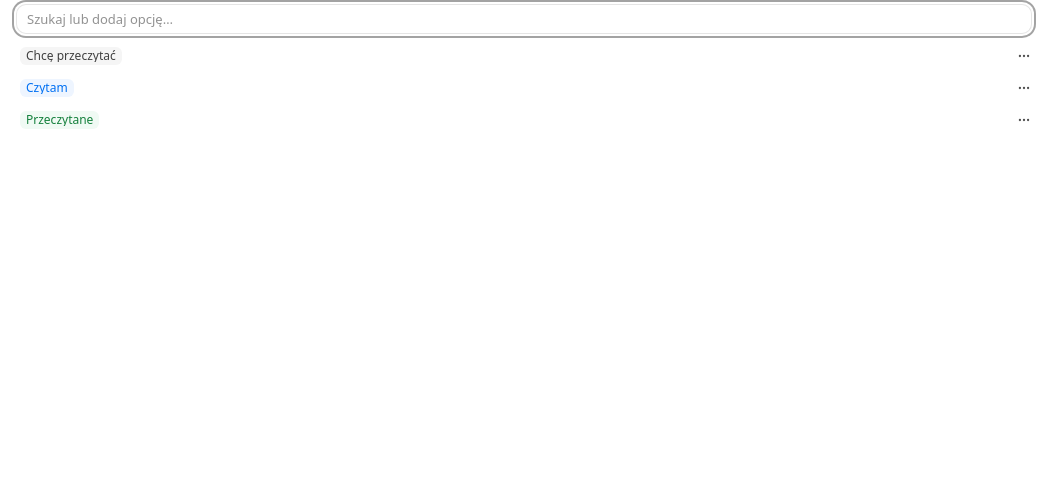
Scenario: OptionPicker › panel „Edycja opcji” › „Gotowe” zapisuje nazwę i wraca do listy
Step 1. Click the button named "Edytuj opcję „Czytam”" → x=1024, y=88, box left=1012, top=76, right=1036, bottom=100
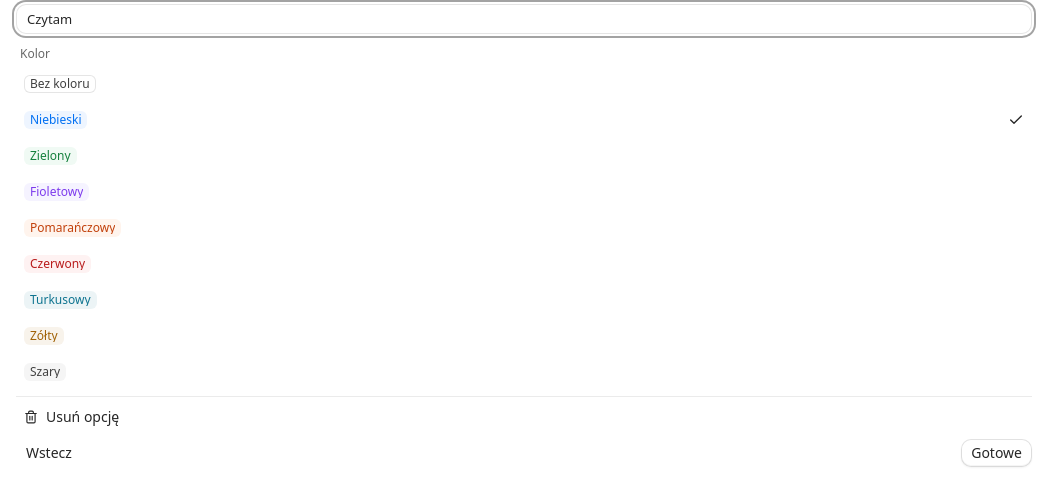
Step 2. Type "!" into the field named "Nazwa opcji" → x=524, y=19, box left=16, top=4, right=1032, bottom=34
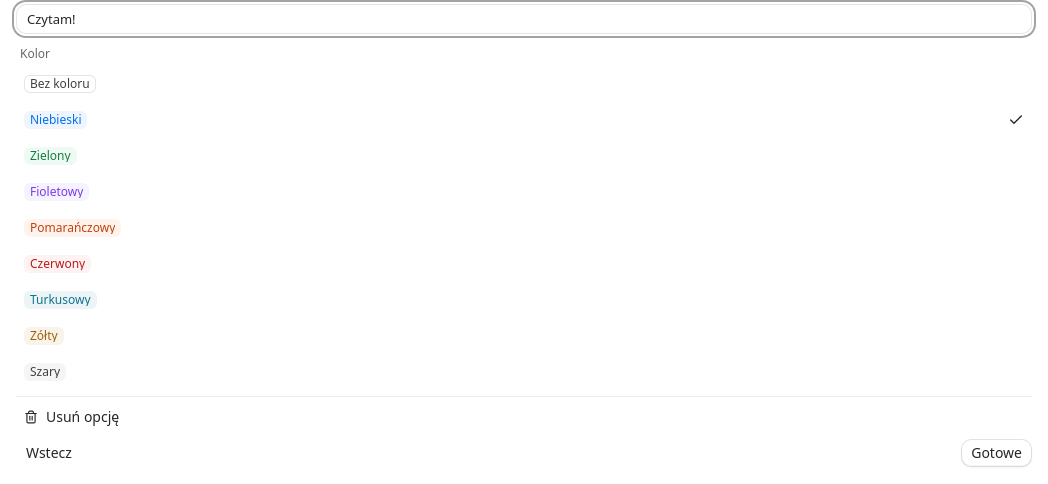
Step 3. Click the button "Gotowe" → x=997, y=453, box left=961, top=439, right=1032, bottom=467
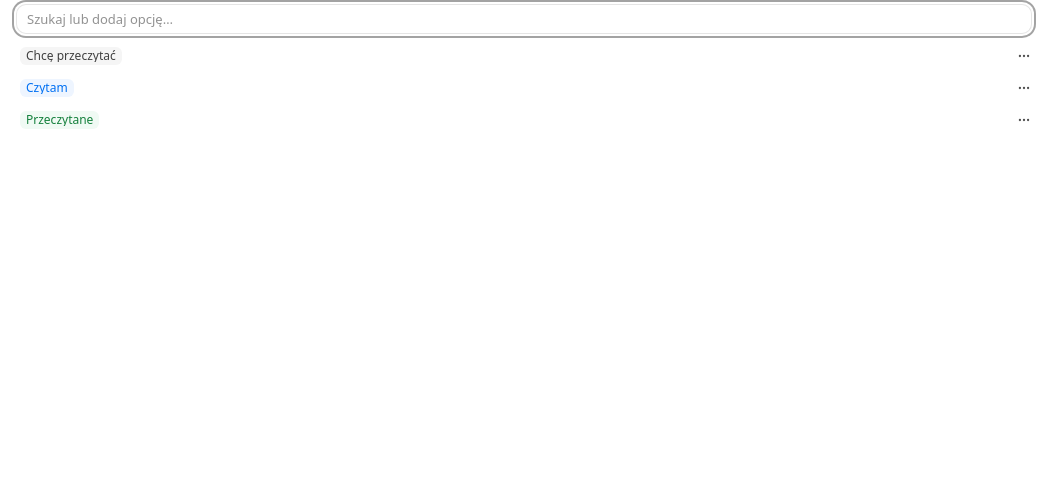
Check: the field labelled "Szukaj lub dodaj opcję" is shown, box left=16, top=4, right=1032, bottom=34
